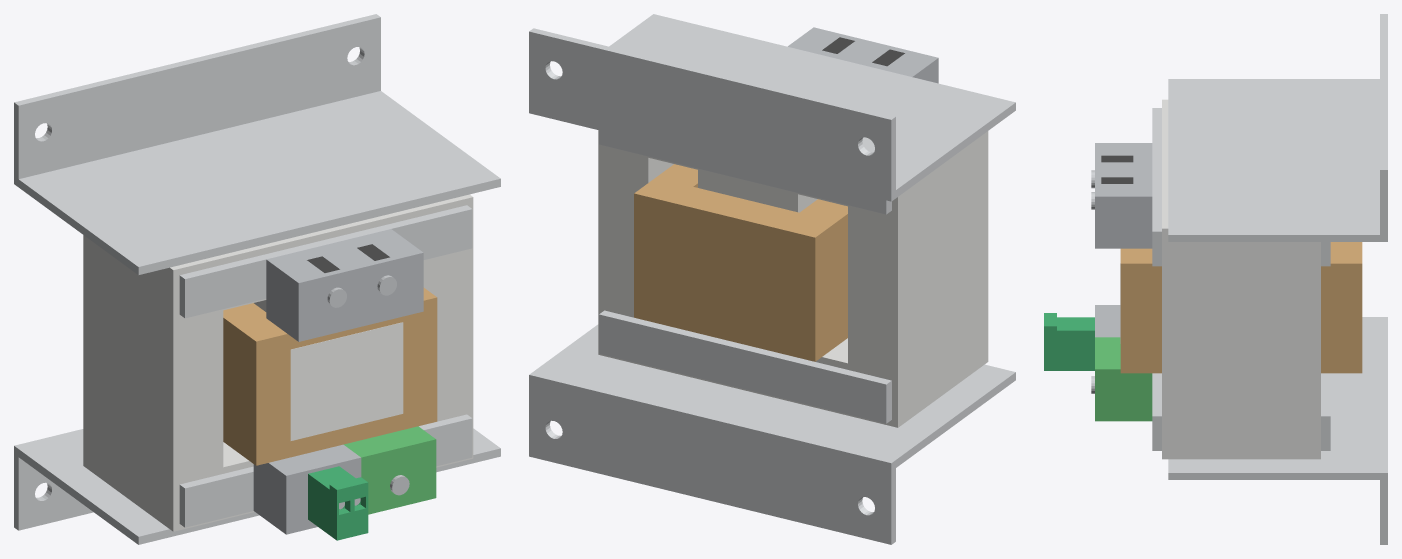
Rendered from xfmr-control.glb.
3 views of the same model, side by side, from view 1: azimuth 30°, elevation 25°; view 2: azimuth 150°, elevation 25°; view 3: azimuth 270°, elevation 25° (orthographic). The views are drawn at different scales.
Visible parts, largest first — view 1: body; view 2: body; view 3: body.
Part boxes in pixels (x1,y1,x2,y2): body: (14,14,500,544); body: (529,14,1015,544); body: (1044,14,1387,544).
Size of what is drawn, in the model's own units: 0.116 by 0.13 by 0.108.
